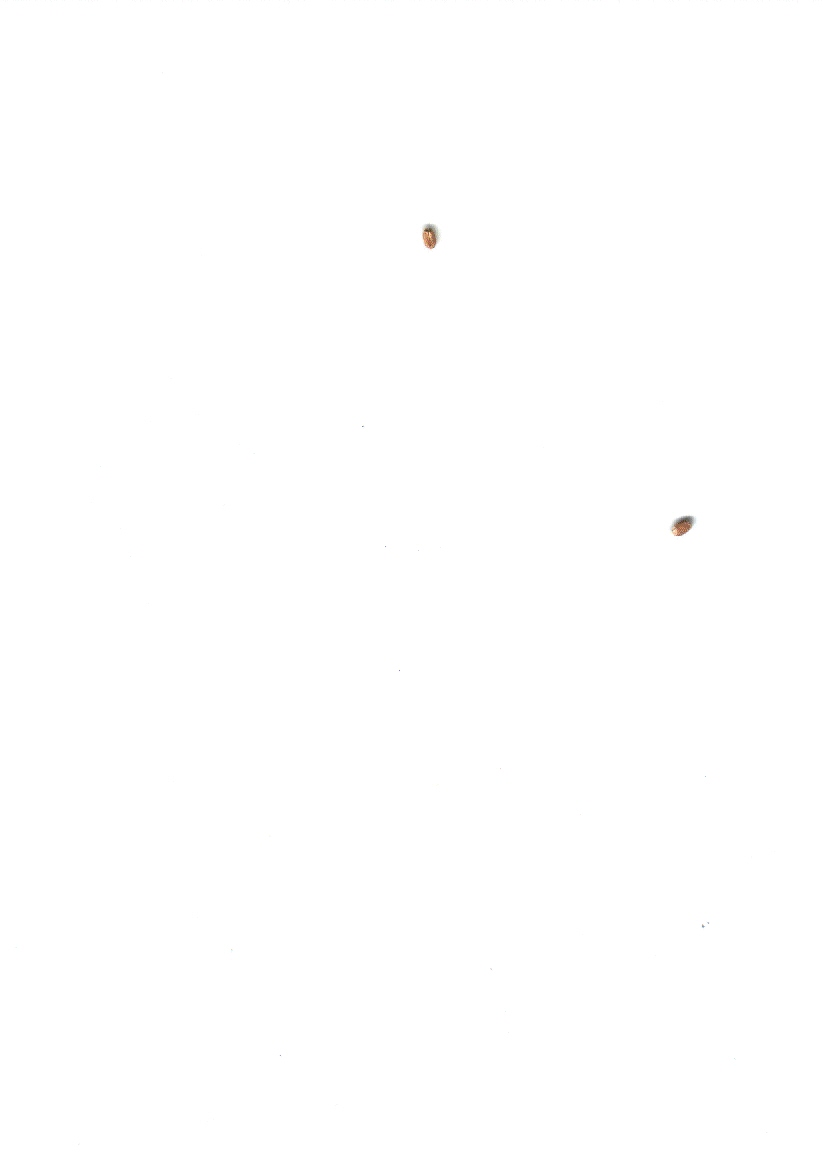grains: (662, 502, 701, 559), (406, 212, 447, 264)
